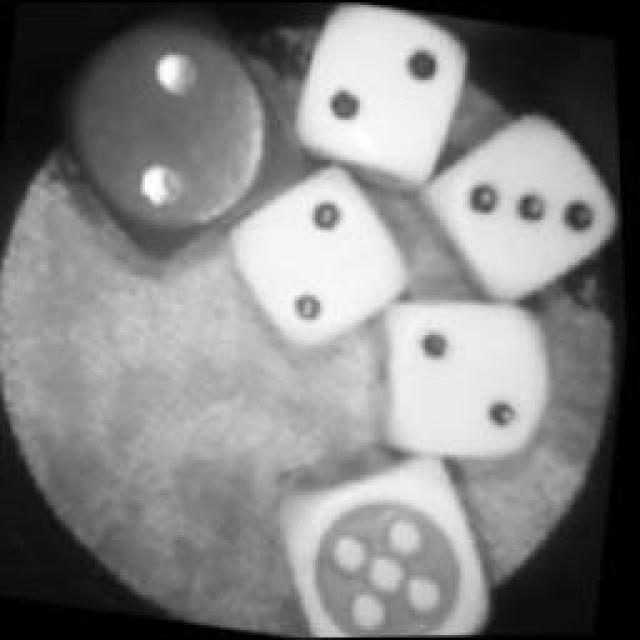dice_2: (31, 1, 321, 271), (212, 151, 428, 364), (364, 279, 571, 476), (282, 0, 486, 198)
dice_3: (410, 90, 630, 340)
dice_5: (257, 435, 515, 637)
